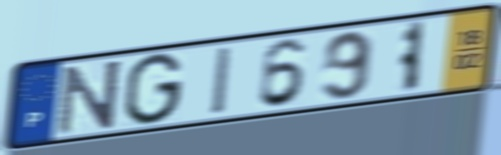1: (398, 17, 430, 96)
6: (255, 36, 310, 110)
9: (320, 28, 376, 102)
G: (120, 51, 187, 128)
I: (209, 43, 235, 118)
N: (55, 57, 125, 138)
